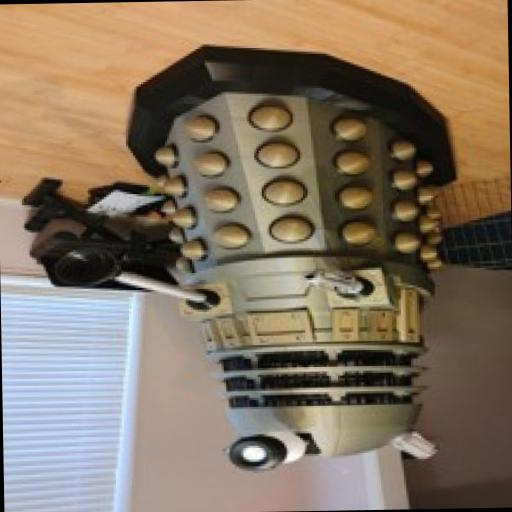dalek: (51, 38, 468, 477)
